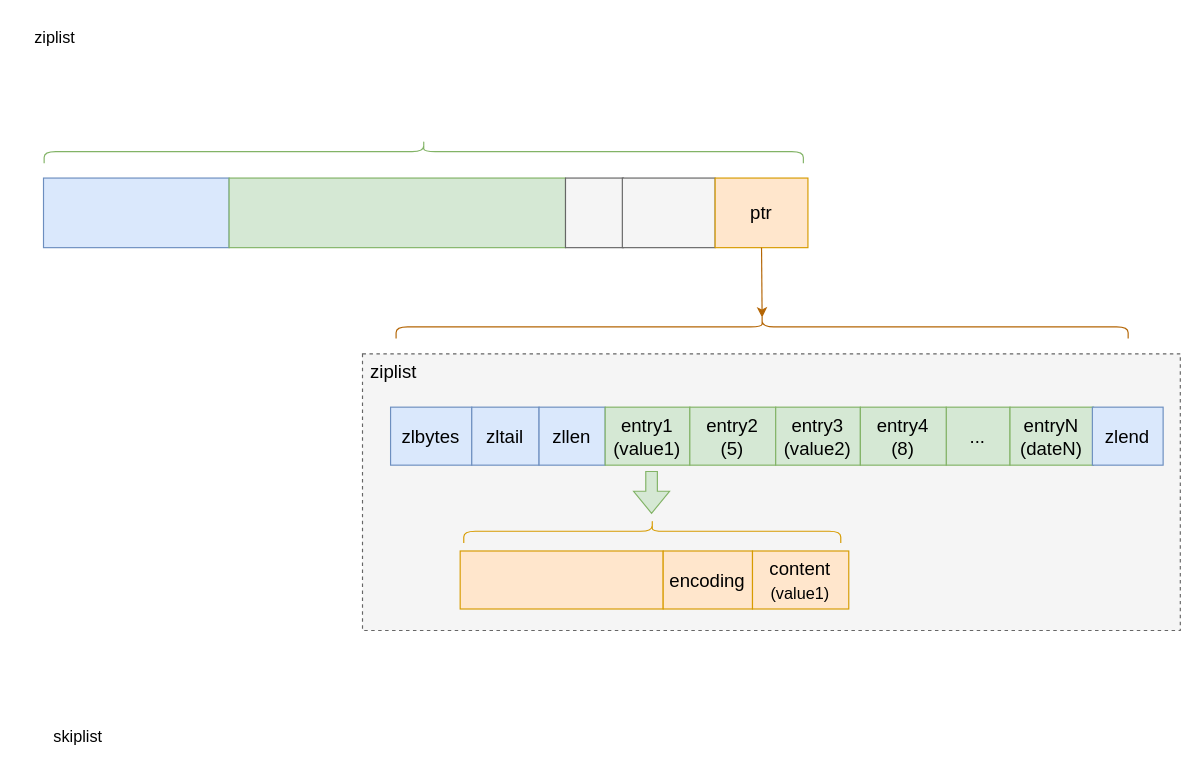
This 1201x774 diagram has some shape labels left out. Here are the shapes that lost their labels. From the top down, the centre of each, then its label:
At (x=423, y=151): "redisObject".
At (x=135, y=212): "type(OBJ_STRING)".
At (x=397, y=212): "encoding(OBJ_ENCODING_EMBSTR)".
At (x=594, y=212): "lru".
At (x=668, y=212): "refcount".
At (x=561, y=579): "previous_entry_length".
